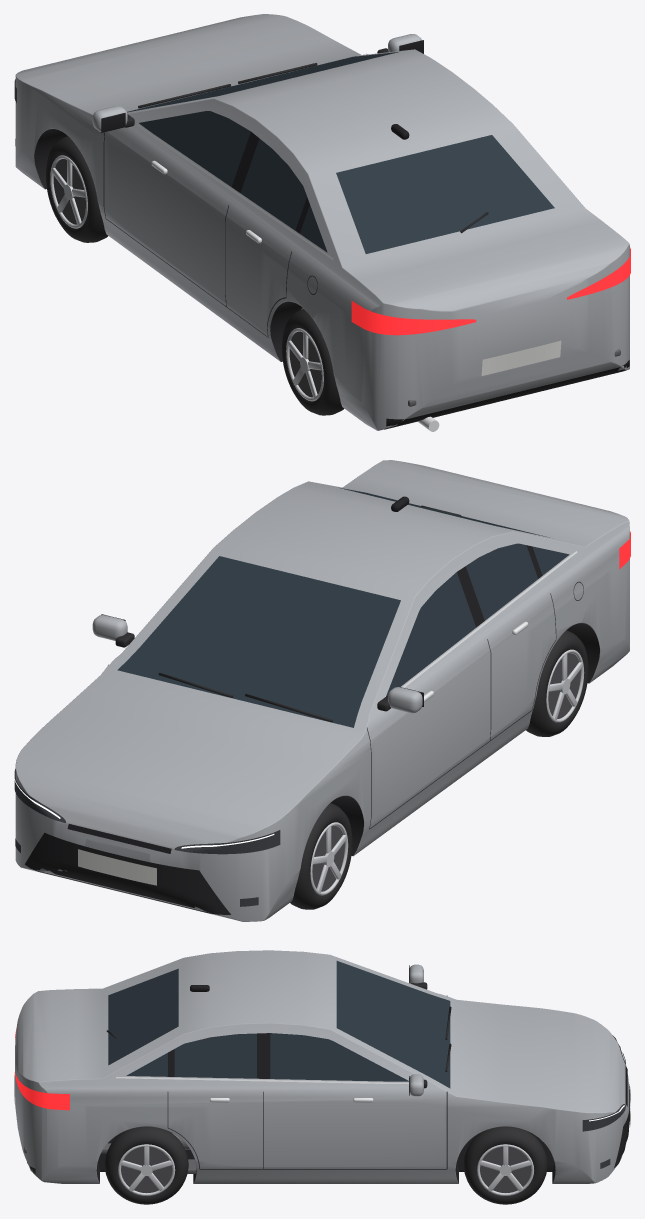
File: coche.glb
3 views of the same model, one above another, from view 1: azimuth 30°, elevation 25°; view 2: azimuth 150°, elevation 25°; view 3: azimuth 270°, elevation 25° (orthographic). The views are drawn at different scales.
Parts seen in each view (by area): view 1: carroceria, luna_trasera, ventanilla_del_izq, ventanilla_tra_izq, rueda_tra_izq, rueda_del_izq, piloto_izq, parabrisas, difusor, matricula_trasera, rueda_tra_izq_llanta, rueda_del_izq_llanta (+3 smaller); view 2: carroceria, parabrisas, toma_inferior, ventanilla_del_izq, ventanilla_tra_izq, rueda_del_izq, rueda_tra_izq, matricula_delantera, faro_izq, rueda_del_izq_llanta, rueda_tra_izq_llanta, retrovisor_izq (+3 smaller); view 3: carroceria, parabrisas, luna_trasera, ventanilla_del_der, ventanilla_tra_der, rueda_del_der, rueda_tra_der, rueda_tra_der_llanta, rueda_del_der_llanta, piloto_der, pilar_b_der, moldura_der (+4 smaller).
Part boxes in pixels (left/top/right/bottom): carroceria: left=15, top=14, right=629, bottom=430; luna_trasera: left=336, top=135, right=554, bottom=253; ventanilla_del_izq: left=139, top=111, right=250, bottom=186; ventanilla_tra_izq: left=240, top=138, right=306, bottom=230; rueda_tra_izq: left=281, top=308, right=344, bottom=415; rueda_del_izq: left=46, top=136, right=107, bottom=242; piloto_izq: left=351, top=301, right=476, bottom=335; parabrisas: left=127, top=51, right=399, bottom=112; difusor: left=384, top=360, right=629, bottom=429; matricula_trasera: left=481, top=340, right=561, bottom=375; rueda_tra_izq_llanta: left=289, top=331, right=321, bottom=397; rueda_del_izq_llanta: left=53, top=159, right=85, bottom=224; carroceria: left=15, top=460, right=629, bottom=921; parabrisas: left=117, top=556, right=400, bottom=727; toma_inferior: left=25, top=832, right=230, bottom=914; ventanilla_del_izq: left=386, top=572, right=475, bottom=696; ventanilla_tra_izq: left=466, top=543, right=537, bottom=620; rueda_del_izq: left=290, top=803, right=352, bottom=909; rueda_tra_izq: left=526, top=630, right=588, bottom=736; matricula_delantera: left=78, top=849, right=156, bottom=885; faro_izq: left=174, top=830, right=280, bottom=854; rueda_del_izq_llanta: left=312, top=826, right=344, bottom=891; rueda_tra_izq_llanta: left=548, top=653, right=580, bottom=718; retrovisor_izq: left=388, top=687, right=422, bottom=713; carroceria: left=15, top=950, right=629, bottom=1183; parabrisas: left=336, top=961, right=450, bottom=1088; luna_trasera: left=108, top=968, right=178, bottom=1065; ventanilla_del_der: left=270, top=1033, right=408, bottom=1081; ventanilla_tra_der: left=174, top=1033, right=256, bottom=1078; rueda_del_der: left=463, top=1126, right=547, bottom=1204; rueda_tra_der: left=104, top=1126, right=188, bottom=1204; rueda_tra_der_llanta: left=121, top=1147, right=172, bottom=1193; rueda_del_der_llanta: left=480, top=1147, right=531, bottom=1193; piloto_der: left=15, top=1072, right=69, bottom=1110; pilar_b_der: left=257, top=1033, right=270, bottom=1078; moldura_der: left=116, top=1077, right=408, bottom=1083.
Size of the model in its own units: 2.15 by 1.45 by 4.64.
